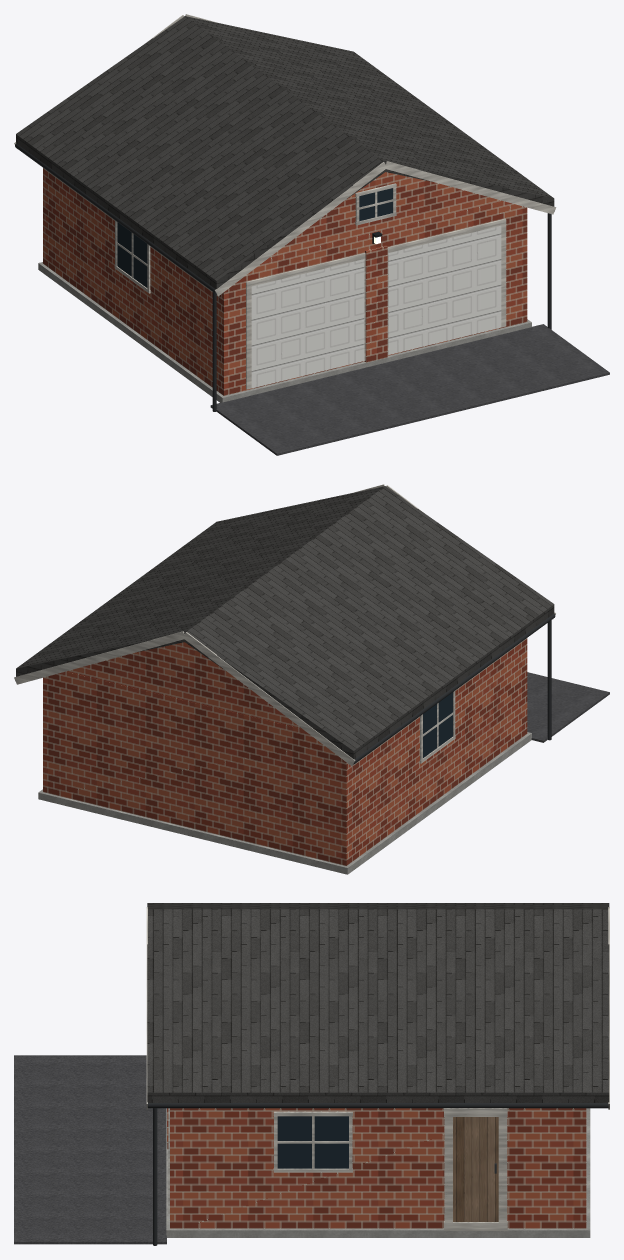
The model's file is double-garage.glb.
3 views of the same model, one above another, from view 1: azimuth 30°, elevation 25°; view 2: azimuth 150°, elevation 25°; view 3: azimuth 270°, elevation 25° (orthographic). The views are drawn at different scales.
Visible parts, largest first — view 1: Double_Garage; view 2: Double_Garage; view 3: Double_Garage.
Boxes of the visible parts, x1,y1,x2,y2 form: Double_Garage: [14, 14, 609, 455]; Double_Garage: [14, 484, 609, 874]; Double_Garage: [14, 903, 609, 1245].
Bounding box in the file's own units: 6.96 × 4.12 × 9.16.
12 materials, 7 textured.
